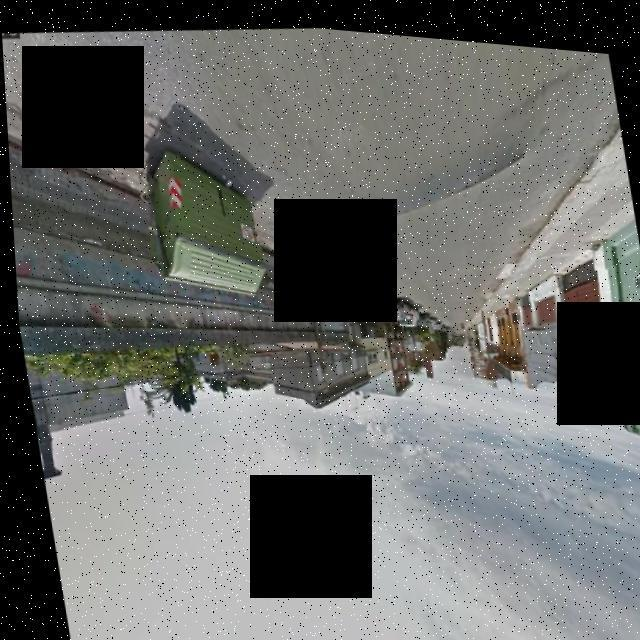bin: (108, 118, 274, 311)
